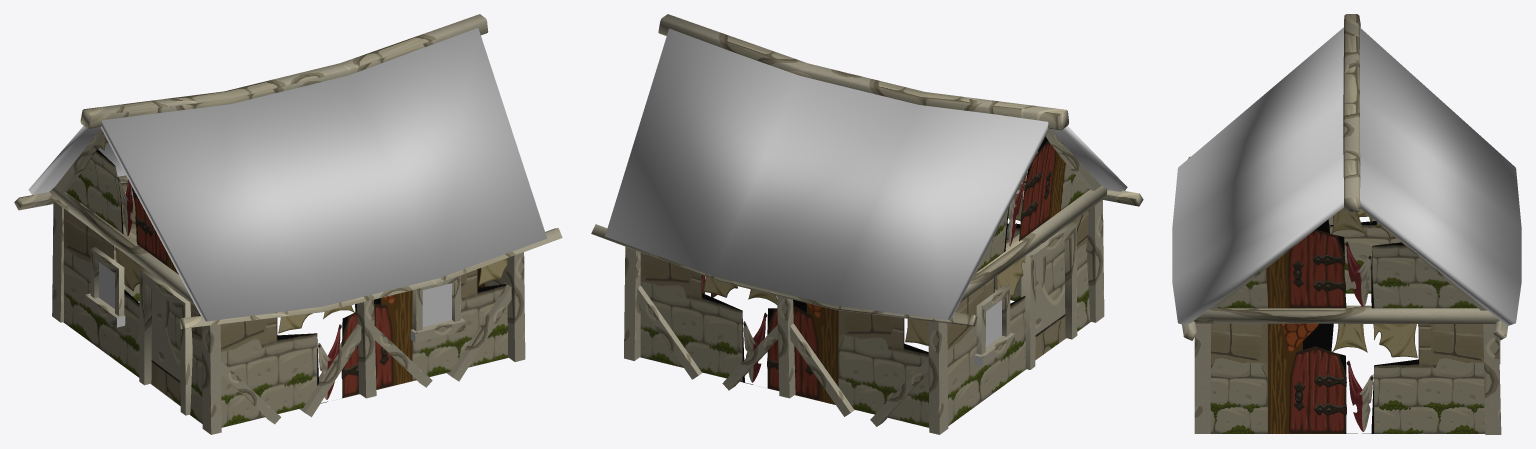
The model's file is Farm_mobile.FBX.
3 views of the same model, side by side, from view 1: azimuth 30°, elevation 25°; view 2: azimuth 150°, elevation 25°; view 3: azimuth 270°, elevation 25° (orthographic). The views are drawn at different scales.
Visible parts, largest first — view 1: Farm_mobile; view 2: Farm_mobile; view 3: Farm_mobile.
Part boxes in pixels (x1,y1,x2,y2): Farm_mobile: [14, 14, 562, 434]; Farm_mobile: [591, 14, 1143, 434]; Farm_mobile: [1172, 14, 1521, 434].
Size of the model in its own units: 7.87 by 5.32 by 6.34.
